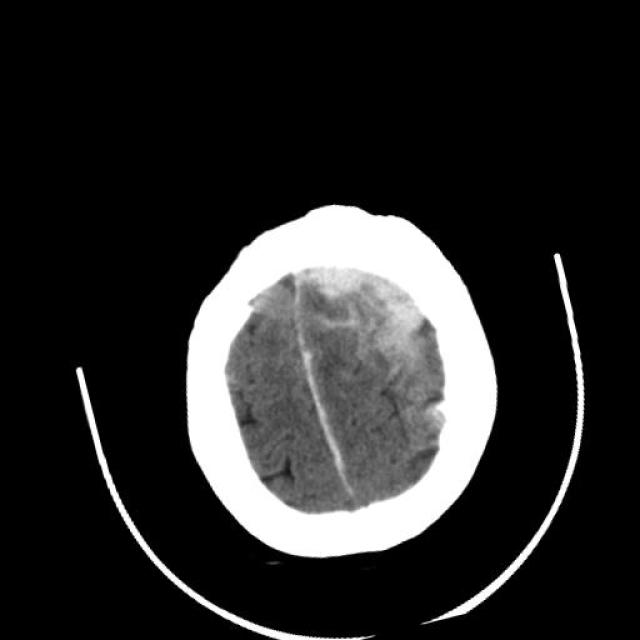Subdural: (279, 340, 379, 524)
